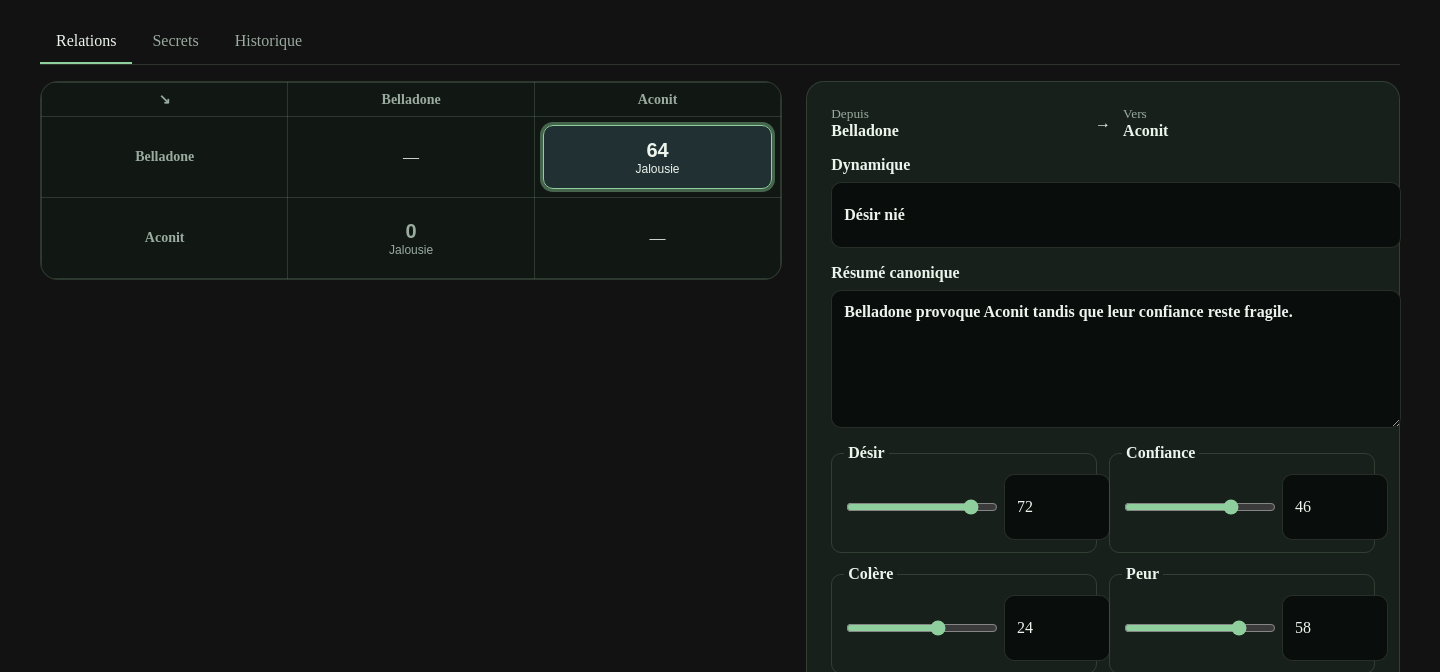
Test: RelationshipBoard › edits the reverse direction with both numeric and slider controls
Click the button with aria-label "Choisir cette direction: Aconit → Belladone".
click(411, 238)  # box [296,206,526,270]
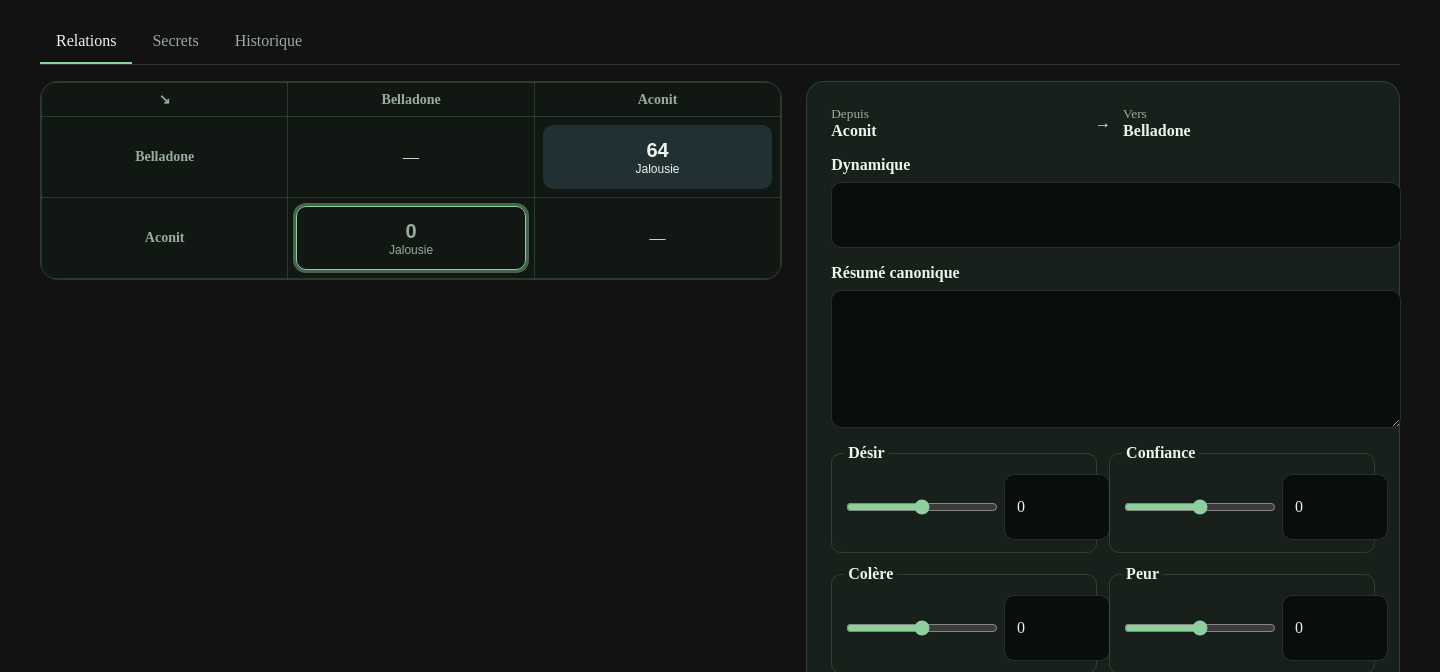
Type "Méfiance protectrice" into the field labelled "Dynamique".
click(1116, 215); type("Méfiance protectrice")  # box [831,182,1401,248]
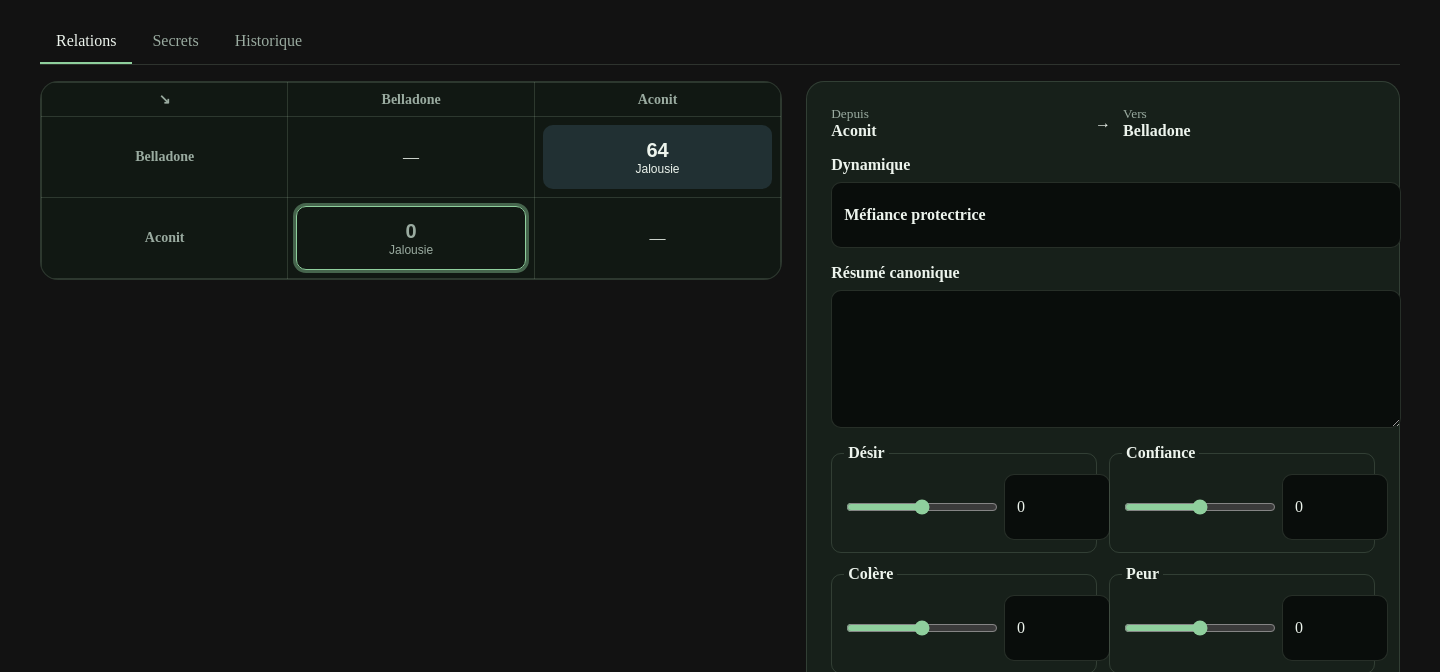
Type "Aconit protège Belladone mais refuse encore de lui faire confiance." into the text box labelled "Résumé canonique".
click(1116, 359); type("Aconit protège Belladone mais refuse encore de lui faire confiance.")  # box [831,290,1401,428]
(page scrolled)
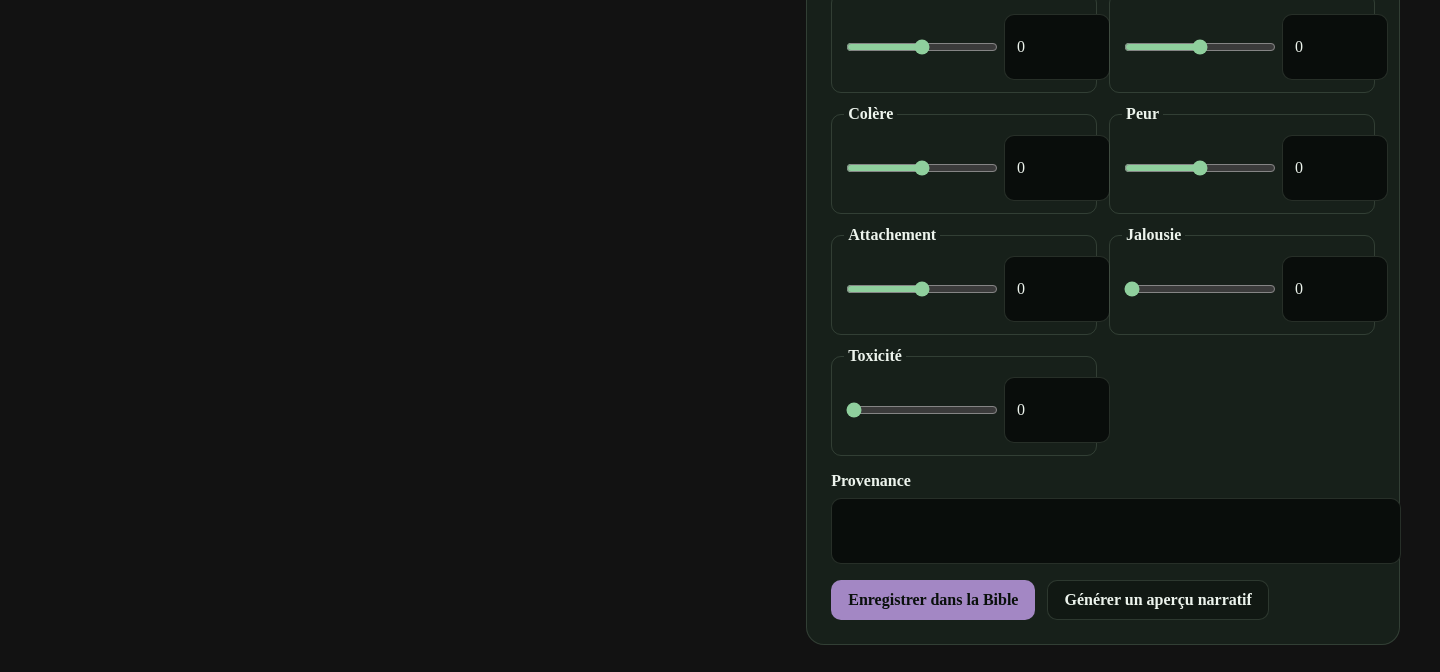
Replace the text in the number field named "Jalousie value" with "81" at (1335, 289), box [1282,256,1388,322]
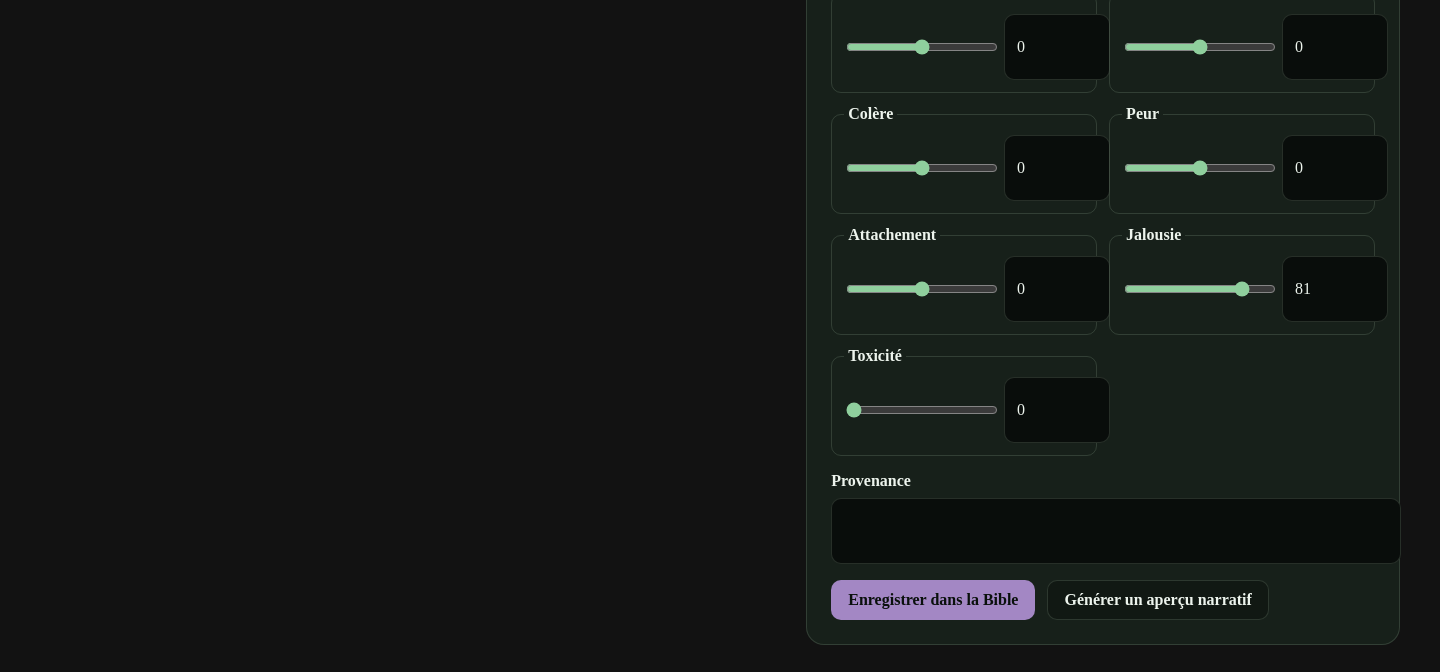
Now the slider named "Jalousie slider" holds "81", box [1124,258,1276,320]
Click the button "Enregistrer dans la Bible".
click(933, 600)  # box [831,580,1036,620]
(page scrolled)
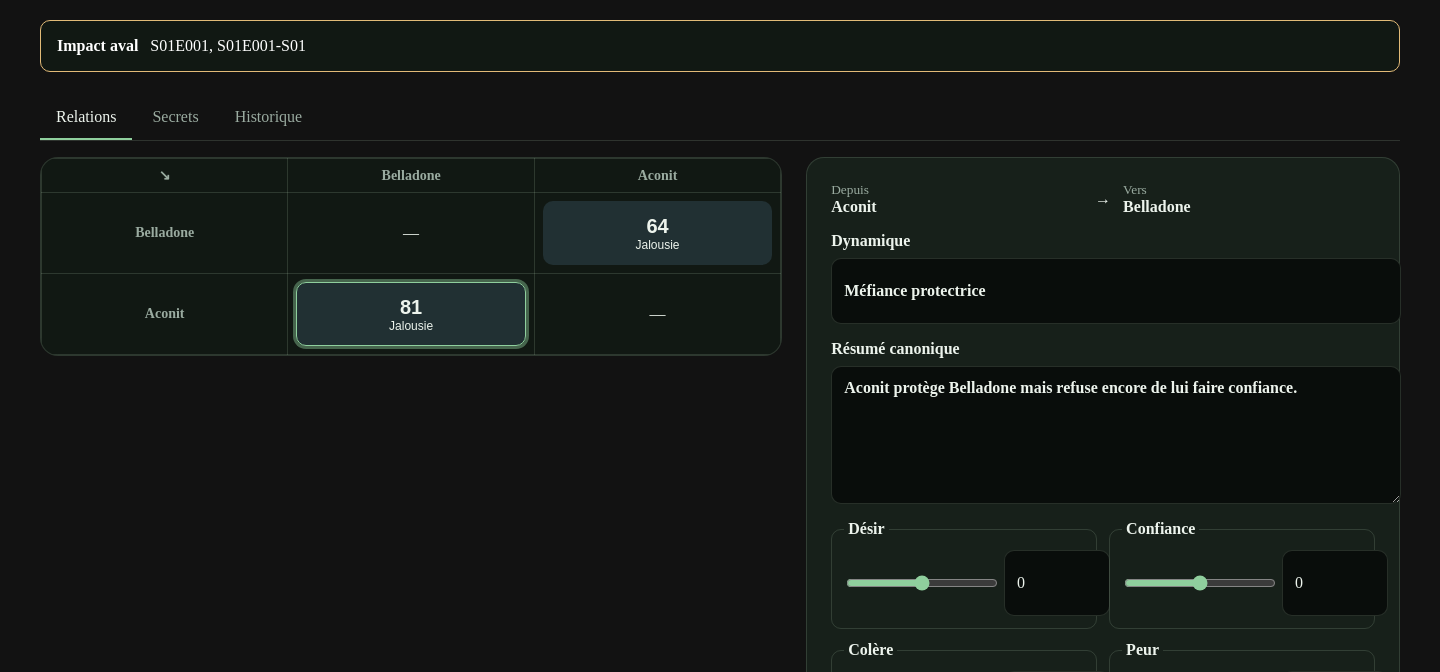
Now the text "S01E001, S01E001-S01" is shown, box [150,37,306,55]
